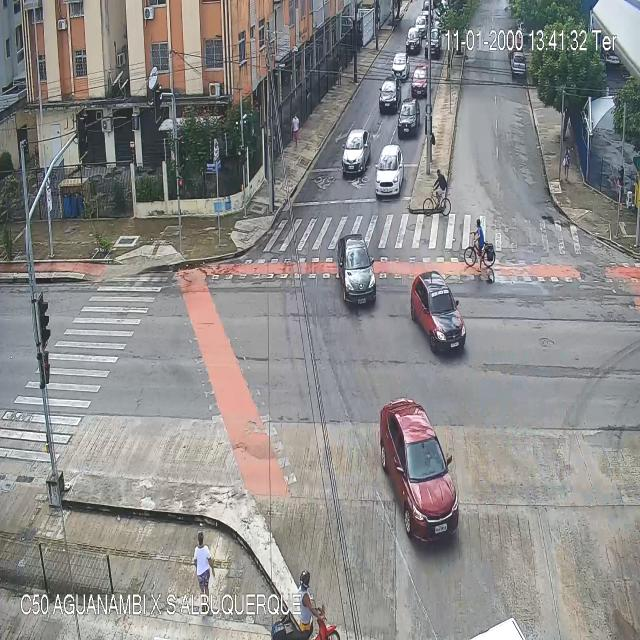Car: (378, 399, 461, 542), (411, 269, 466, 356), (337, 232, 377, 309), (340, 128, 370, 178), (376, 144, 403, 198), (397, 104, 419, 142), (378, 78, 400, 112), (412, 66, 428, 98), (423, 28, 441, 56), (392, 52, 408, 75), (406, 29, 420, 54), (512, 52, 525, 75), (414, 16, 427, 34)
Motorcycle: (270, 572, 338, 640)
